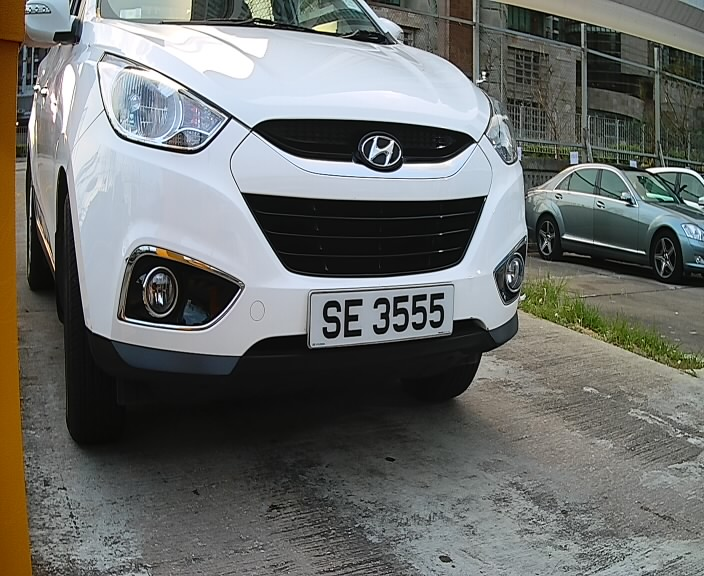Car: (27, 1, 544, 462)
License Plate: (295, 274, 467, 361)
